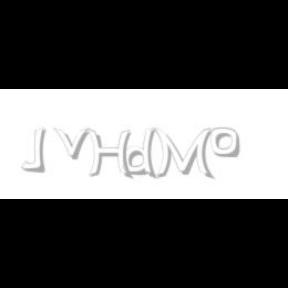H: (87, 128, 133, 180)
J: (20, 128, 46, 172)
M: (153, 128, 212, 180)
d: (124, 128, 161, 180)
o: (210, 128, 240, 158)
v: (53, 128, 93, 160)
